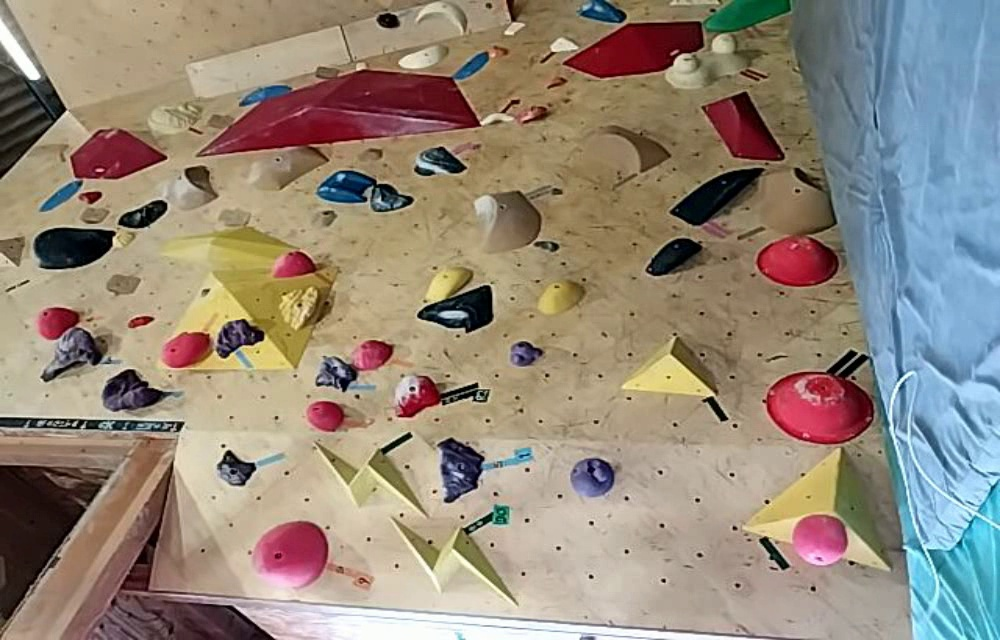cluster1: (159, 249, 322, 371)
cluster10: (37, 126, 219, 228)
cluster11: (472, 123, 670, 256)
cluster12: (564, 22, 784, 160)
cluster13: (194, 44, 553, 155)
cluster2: (306, 334, 443, 435)
cluster3: (416, 265, 582, 366)
cluster4: (216, 439, 517, 606)
cluster5: (741, 372, 890, 579)
cluster6: (567, 338, 714, 499)
cluster7: (645, 165, 840, 287)
cluster8: (32, 227, 165, 410)
cluster9: (246, 142, 466, 212)
